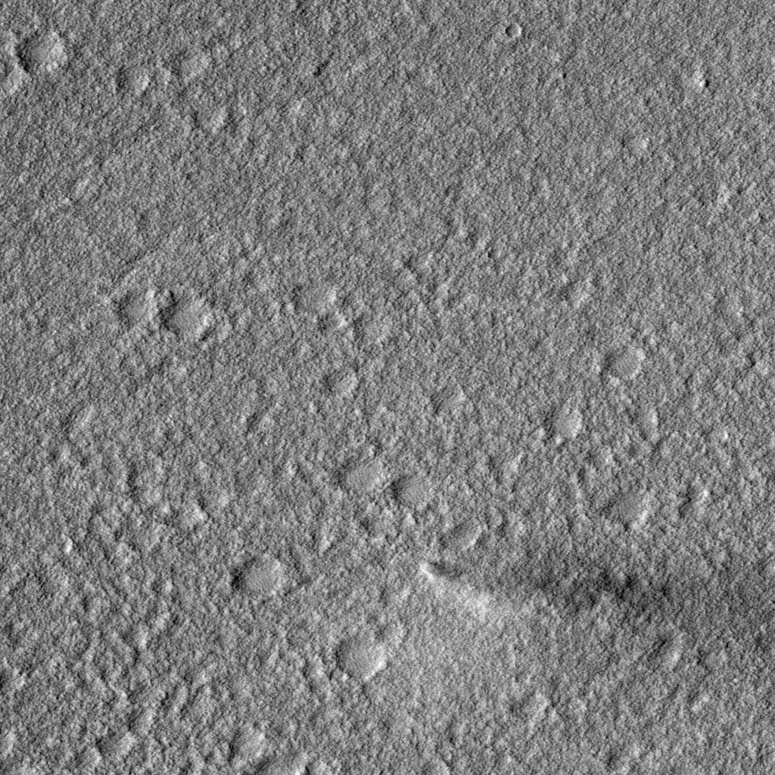dust_devil: (415, 556, 672, 629)
